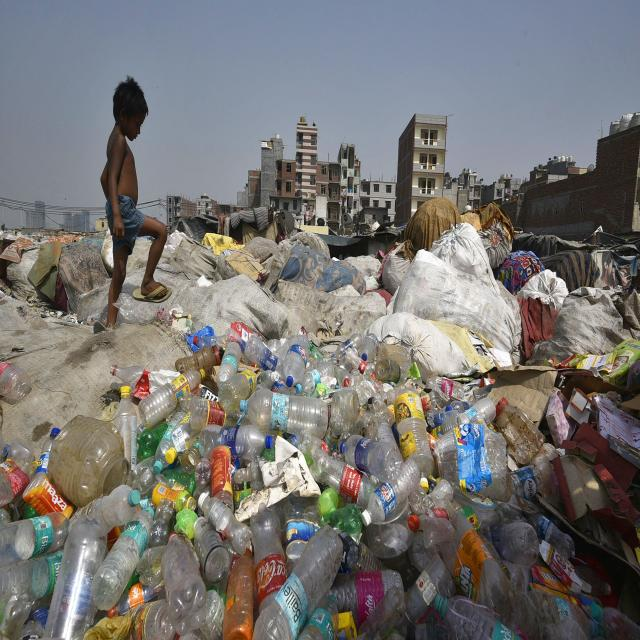garbage: (1, 208, 638, 639)
